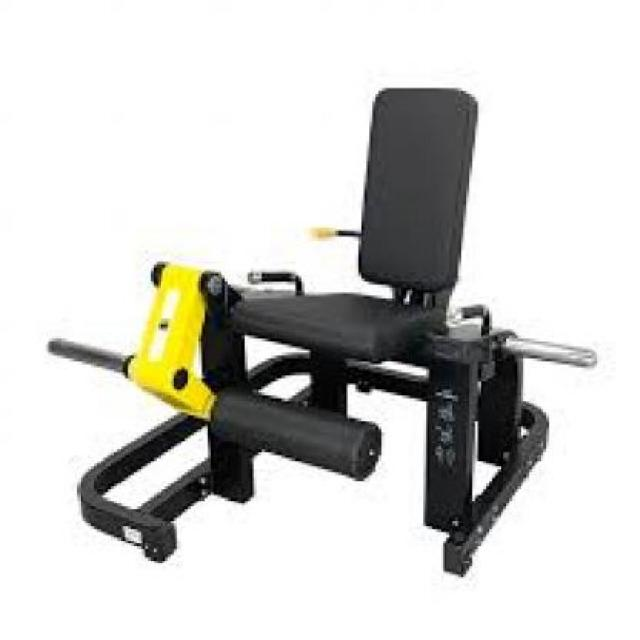leg extension: (26, 69, 609, 589)
